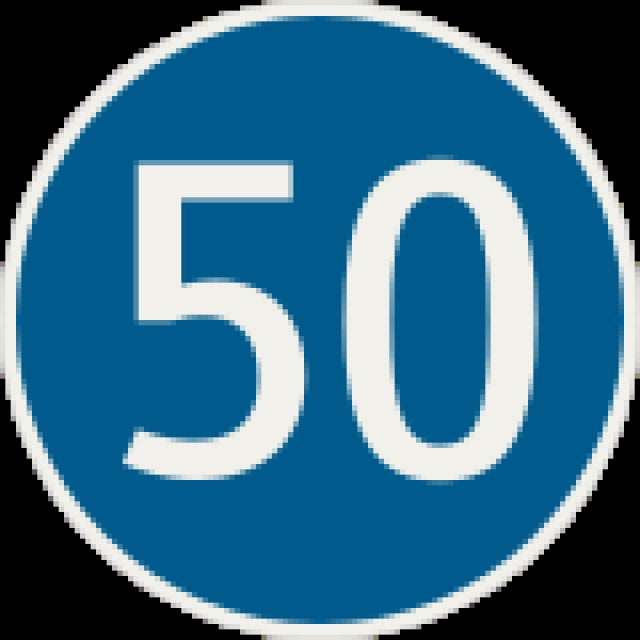Speed Limit -50-: (108, 141, 552, 499)
